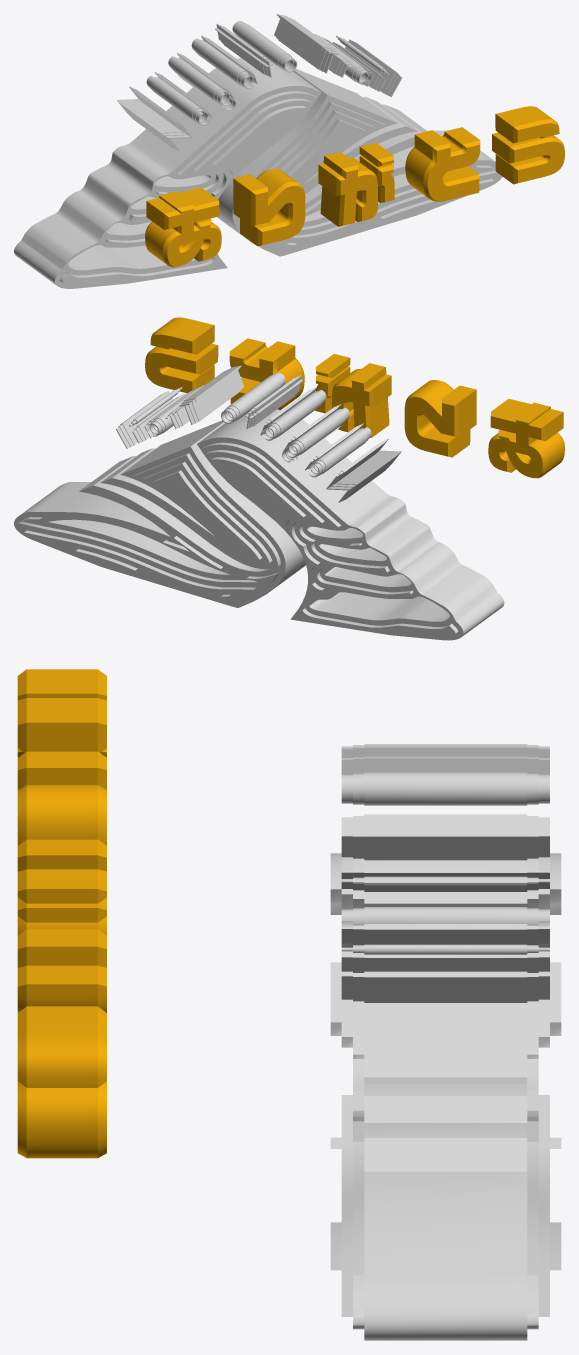
File: asset.gltf
The picture shows the model from 3 angles, top to bottom: view 1: azimuth 30°, elevation 25°; view 2: azimuth 150°, elevation 25°; view 3: azimuth 270°, elevation 25°; orthographic projection. The views are drawn at different scales.
Parts seen in each view (by area): view 1: Fill (×12), あ, が, う, り, と; view 2: Fill (×12), あ, り, う, が, と; view 3: Fill (×9), う, が, り, あ, と.
Boxes of the visible parts, x1,y1,x2,y2 form: Fill (×12): (14,14,502,288); あ: (145,187,221,267); が: (318,142,394,226); う: (492,106,564,184); り: (233,168,305,246); と: (405,127,480,201); Fill (×12): (14,365,504,640); あ: (488,398,564,478); り: (404,380,476,457); う: (145,317,218,393); が: (315,354,391,437); と: (229,338,304,409); Fill (×9): (330,745,561,1340); う: (17,1006,106,1158); が: (17,839,106,935); り: (17,751,106,845); あ: (17,669,106,757); と: (17,929,106,1012).
Bounding box in the file's own units: 7.28 × 3.16 × 3.81.
